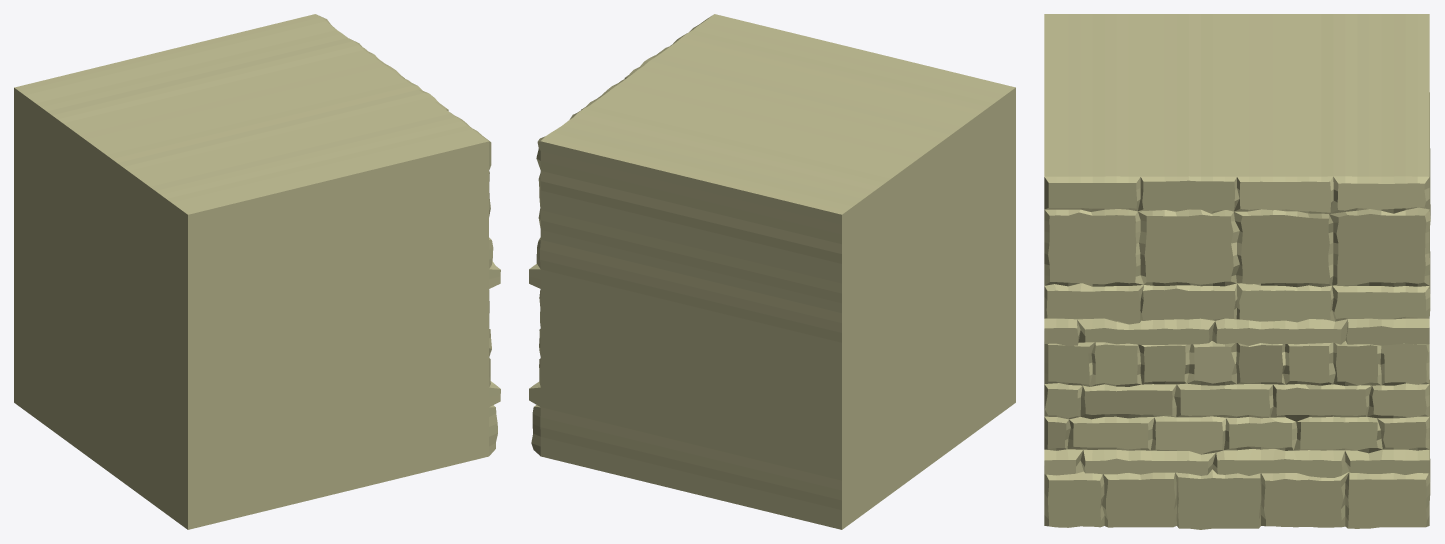
File: wall_1.fbx
The picture shows the model from 3 angles, left to right: view 1: azimuth 30°, elevation 25°; view 2: azimuth 150°, elevation 25°; view 3: azimuth 270°, elevation 25°; orthographic projection. The views are drawn at different scales.
Visible parts, largest first — view 1: Cube; view 2: Cube; view 3: Cube.
Part boxes in pixels (box(x1,y1,x2,y2)): Cube: box(14, 14, 500, 529); Cube: box(529, 14, 1015, 529); Cube: box(1044, 14, 1430, 529).
Bounding box in the file's own units: 210 × 201 × 201.
